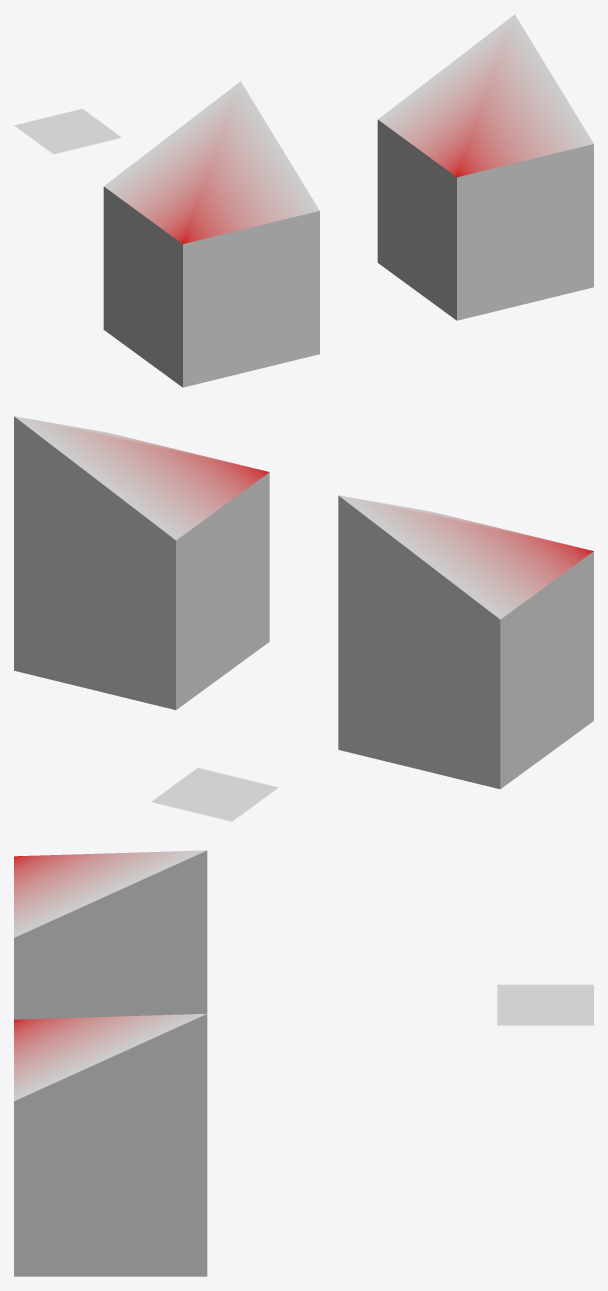
Rendered from shared_accessors.out_shared.glb.
The picture shows the model from 3 angles, top to bottom: view 1: azimuth 30°, elevation 25°; view 2: azimuth 150°, elevation 25°; view 3: azimuth 270°, elevation 25°; orthographic projection. The views are drawn at different scales.
Visible parts, largest first — view 1: Cube, Cube2, Loose; view 2: Cube, Cube2, Loose; view 3: Cube2, Cube, Loose.
Part boxes in pixels (x1,y1,x2,y2): Cube: [103, 81, 319, 387]; Cube2: [377, 14, 593, 320]; Loose: [14, 109, 121, 154]; Cube: [338, 495, 593, 789]; Cube2: [14, 416, 269, 709]; Loose: [151, 768, 278, 821]; Cube2: [14, 1013, 207, 1276]; Cube: [14, 850, 207, 1019]; Loose: [497, 984, 593, 1025].
Size of the model in its own units: 6 by 3 by 6.
